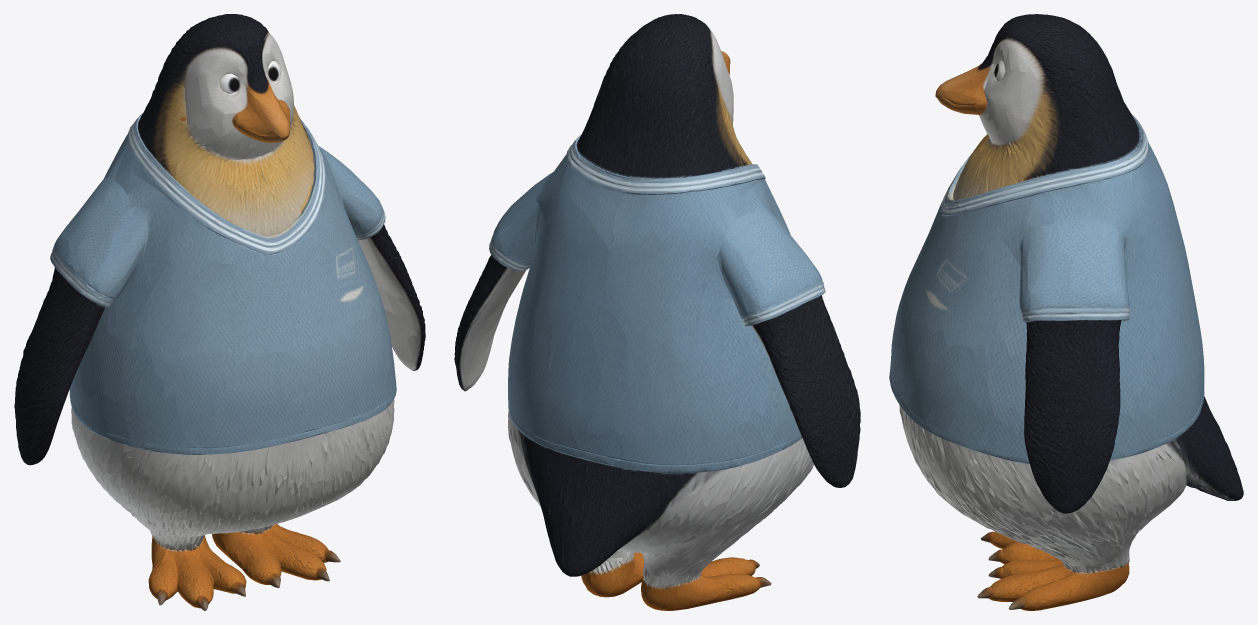
The model's file is penguin_v4_lo.glb.
3 renders of one model, left to right at view 1: azimuth 30°, elevation 25°; view 2: azimuth 150°, elevation 25°; view 3: azimuth 270°, elevation 25°, orthographic.
Visible parts, largest first — view 1: output_unwrapped; view 2: output_unwrapped; view 3: output_unwrapped.
Boxes of the visible parts, x1,y1,x2,y2 form: output_unwrapped: [14, 14, 425, 610]; output_unwrapped: [454, 14, 860, 610]; output_unwrapped: [889, 14, 1243, 610].
Size of the model in its own units: 1.39 by 1.9 by 1.11.
1 material, 1 textured.
